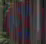No Stopping: (1, 2, 45, 42)
